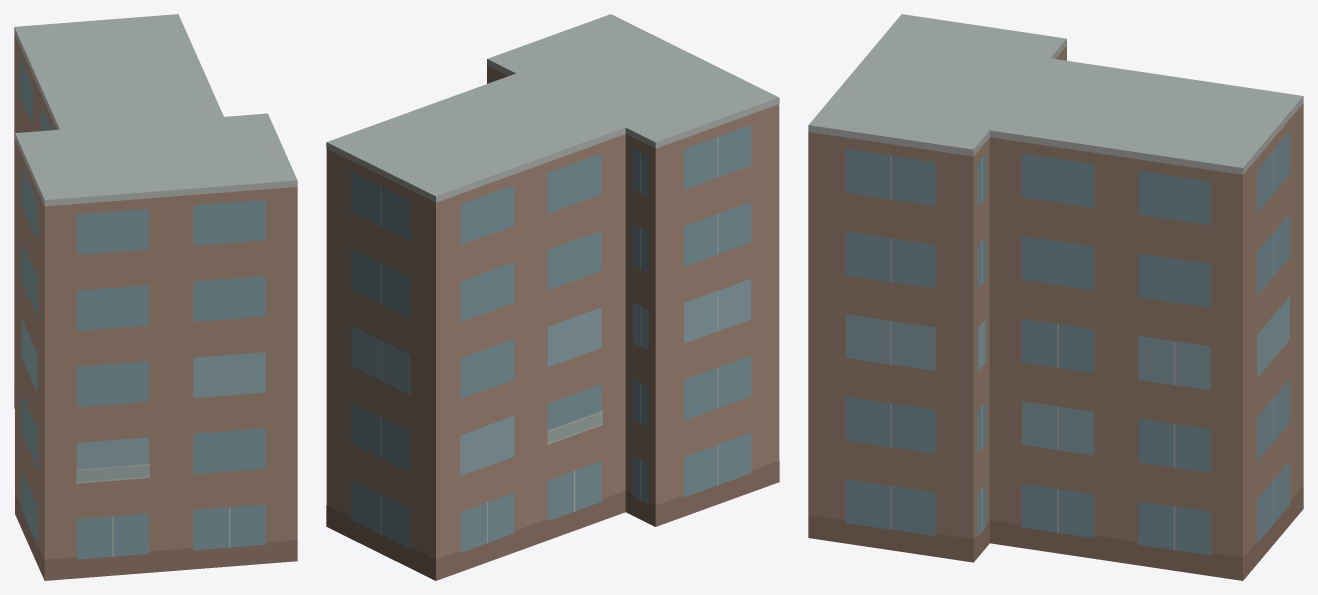
File: survey-upis-32850281.glb
3 renders of one model, left to right at view 1: azimuth 30°, elevation 25°; view 2: azimuth 150°, elevation 25°; view 3: azimuth 270°, elevation 25°, orthographic. The views are drawn at different scales.
Parts seen in each view (by area): view 1: survey-upis-32850281.tmp; view 2: survey-upis-32850281.tmp; view 3: survey-upis-32850281.tmp.
Part boxes in pixels (box(x1,y1,x2,y2)): survey-upis-32850281.tmp: box(14, 14, 297, 580); survey-upis-32850281.tmp: box(326, 14, 779, 580); survey-upis-32850281.tmp: box(808, 14, 1303, 580).
Size of the model in its own units: 11.73 by 14.65 by 15.93.
